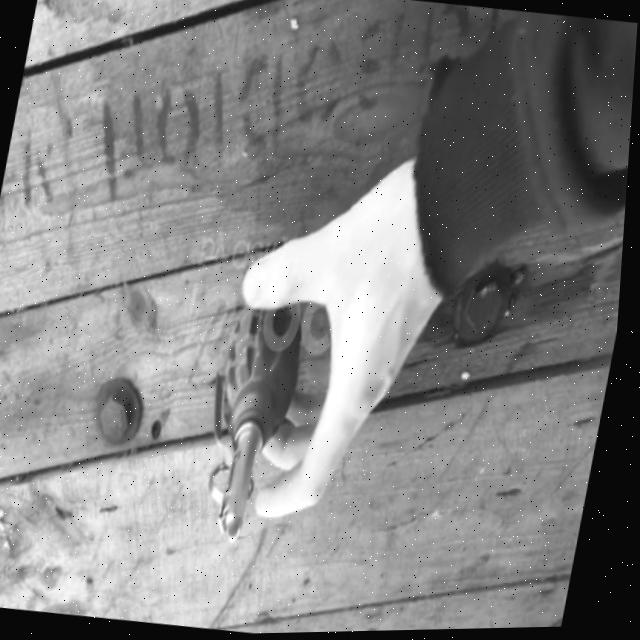grenade: (190, 272, 327, 547)
